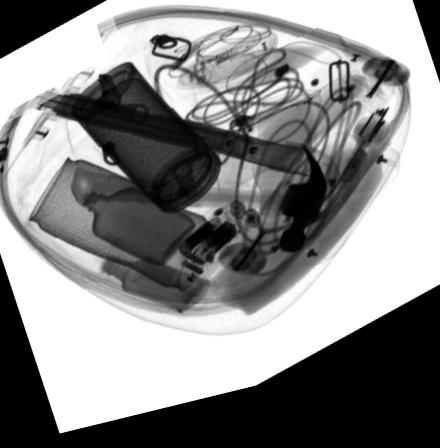Hammer: (66, 158, 326, 267)
